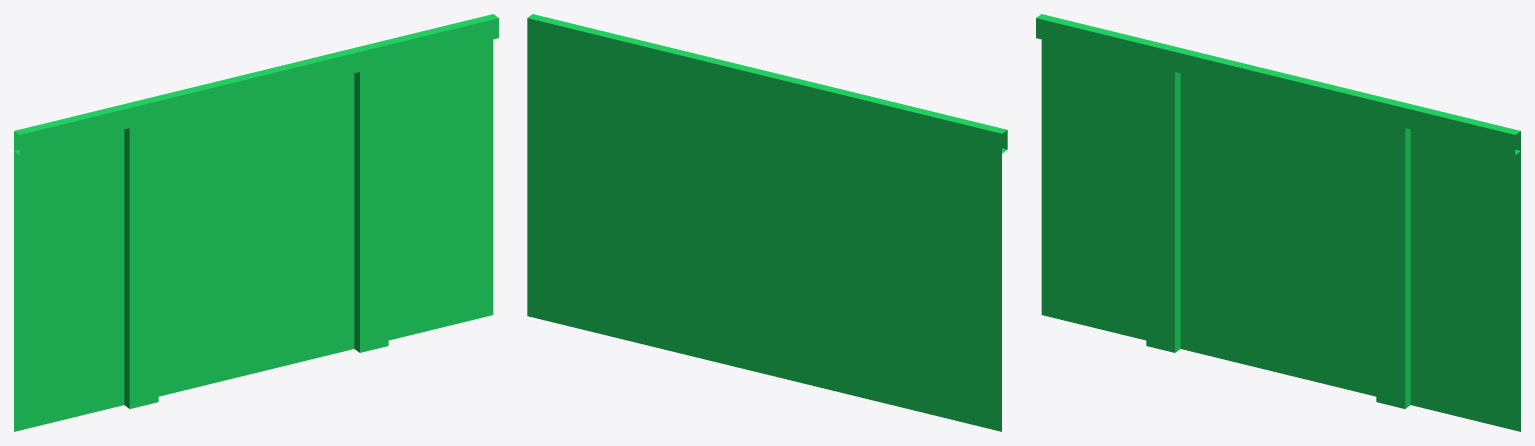
Rendered from SM_wall_brick_stone_tile.fbx.
3 renders of one model, left to right at view 1: azimuth 30°, elevation 25°; view 2: azimuth 150°, elevation 25°; view 3: azimuth 330°, elevation 25°, orthographic.
Parts seen in each view (by area): view 1: wall_empty_low.003, wall_empty_low.002; view 2: wall_empty_low.003, wall_empty_low.002; view 3: wall_empty_low.003, wall_empty_low.002.
Part boxes in pixels (x1=…): wall_empty_low.003: x1=14, y1=39, x2=493, y2=431; wall_empty_low.002: x1=14, y1=14, x2=498, y2=408; wall_empty_low.003: x1=527, y1=18, x2=1001, y2=431; wall_empty_low.002: x1=528, y1=14, x2=1007, y2=153; wall_empty_low.003: x1=1041, y1=39, x2=1520, y2=431; wall_empty_low.002: x1=1036, y1=14, x2=1520, y2=408.
Bounding box in the file's own units: 500 × 300 × 10.
